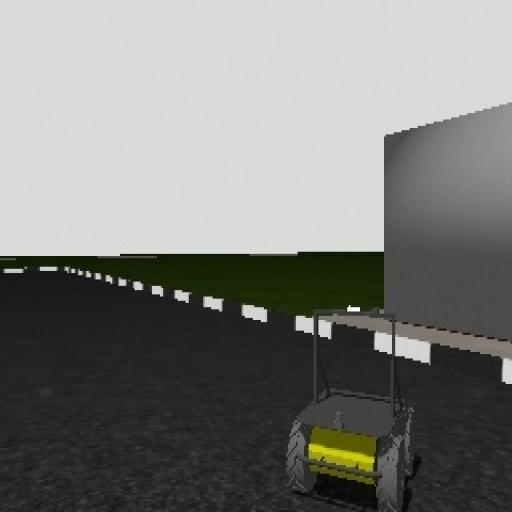huskya200: (287, 304, 415, 512)
